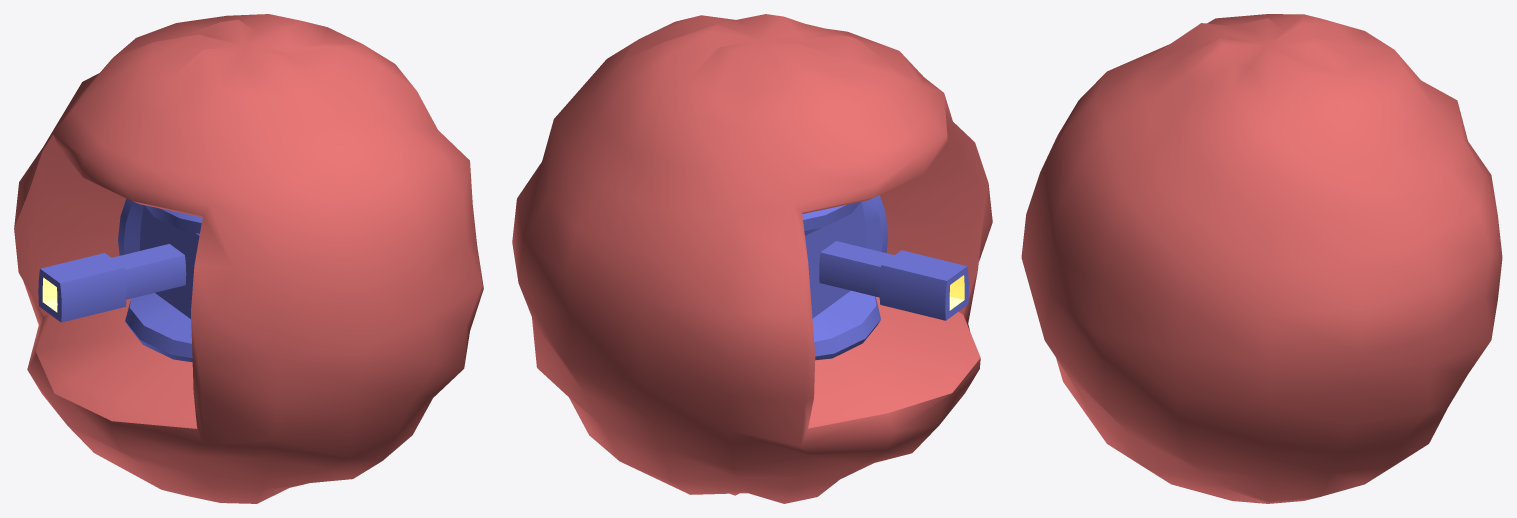
File: PR_Octoplanet.fbx
3 views of the same model, side by side, from view 1: azimuth 30°, elevation 25°; view 2: azimuth 150°, elevation 25°; view 3: azimuth 270°, elevation 25° (orthographic).
Visible parts, largest first — view 1: PR_PlanetBody, PR_PlanetCockpit; view 2: PR_PlanetBody, PR_PlanetCockpit; view 3: PR_PlanetBody.
Part boxes in pixels (<box>): PR_PlanetBody: <box>14,14,483,503</box>; PR_PlanetCockpit: <box>38,198,202,362</box>; PR_PlanetBody: <box>512,14,992,503</box>; PR_PlanetCockpit: <box>802,195,968,360</box>; PR_PlanetBody: <box>1021,14,1502,503</box>.
Size of the model in its own units: 1274 by 1319 by 1299.
